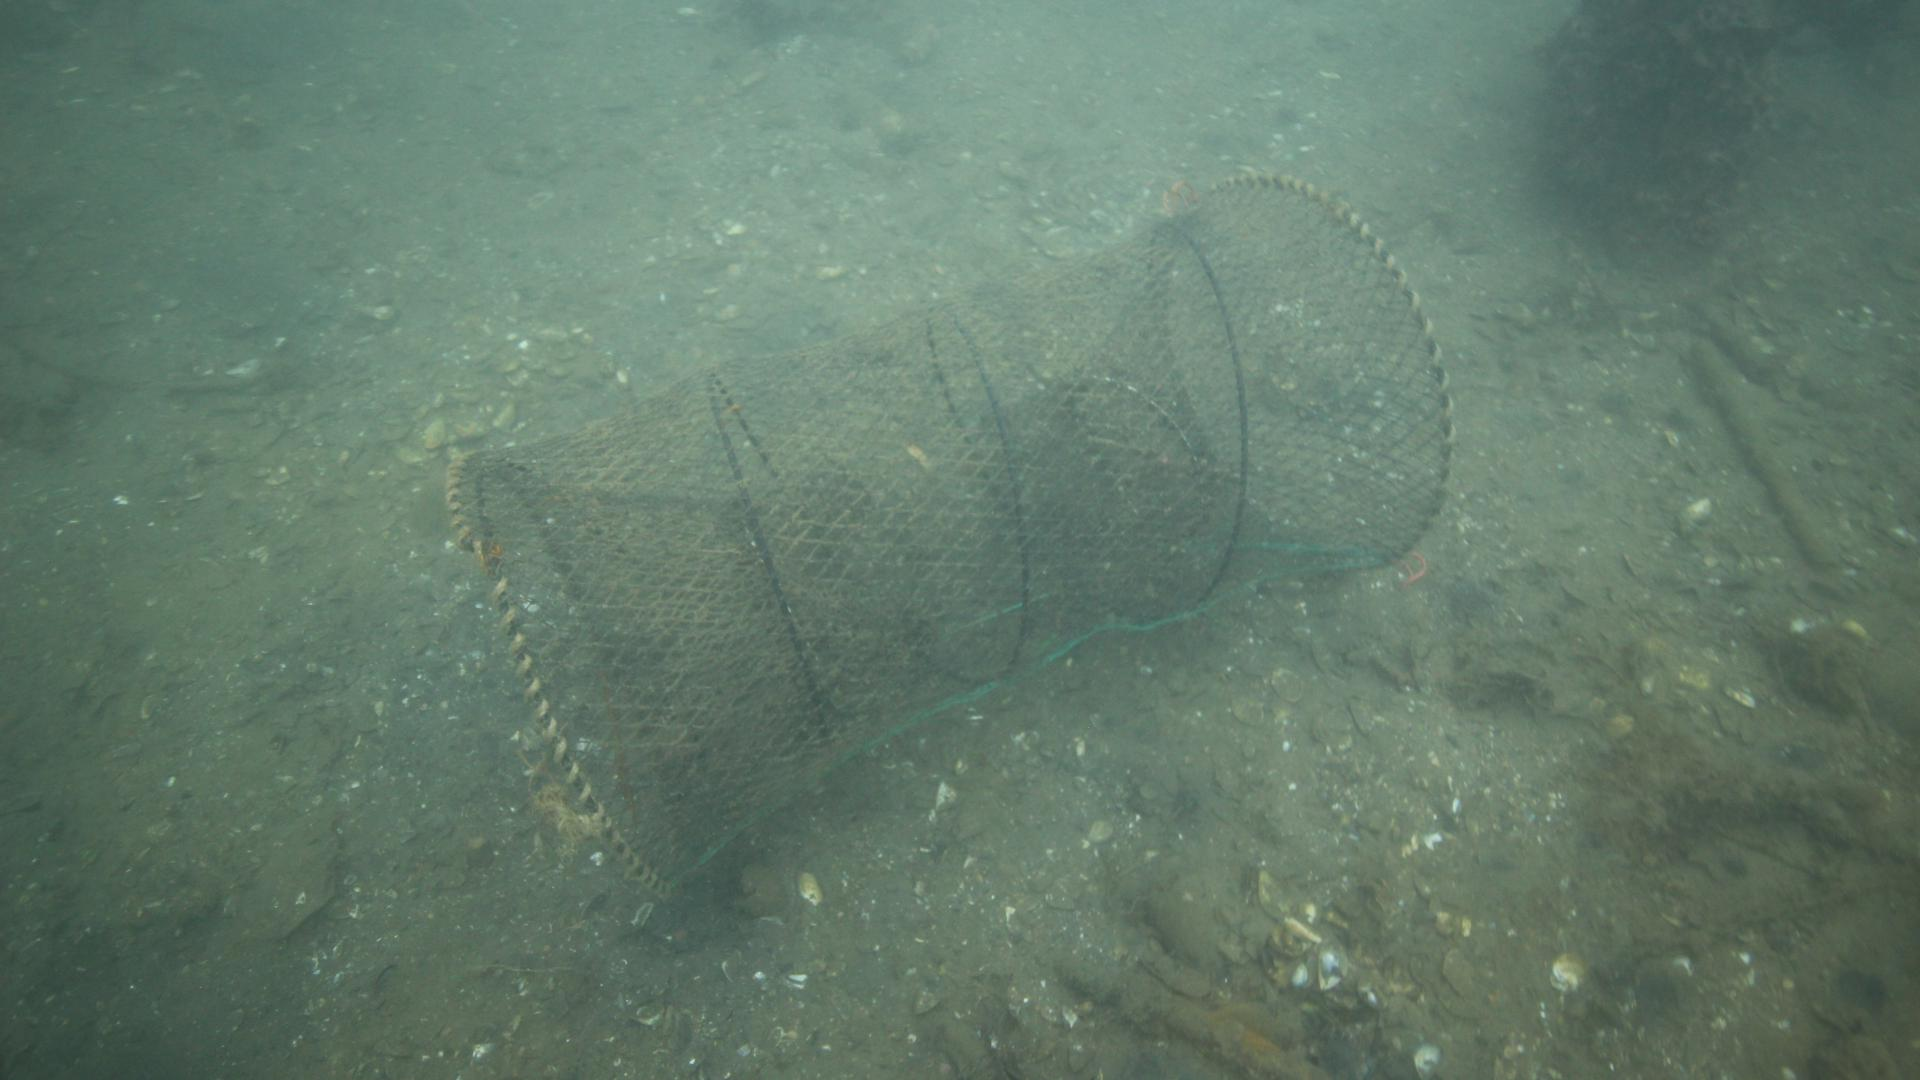spring fish trap: (440, 171, 1448, 905)
